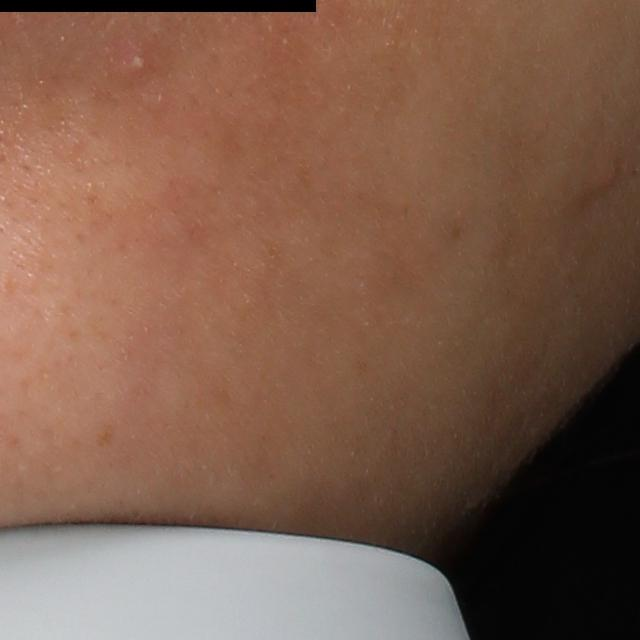papule: (583, 155, 623, 202)
pustule: (110, 46, 149, 85)
